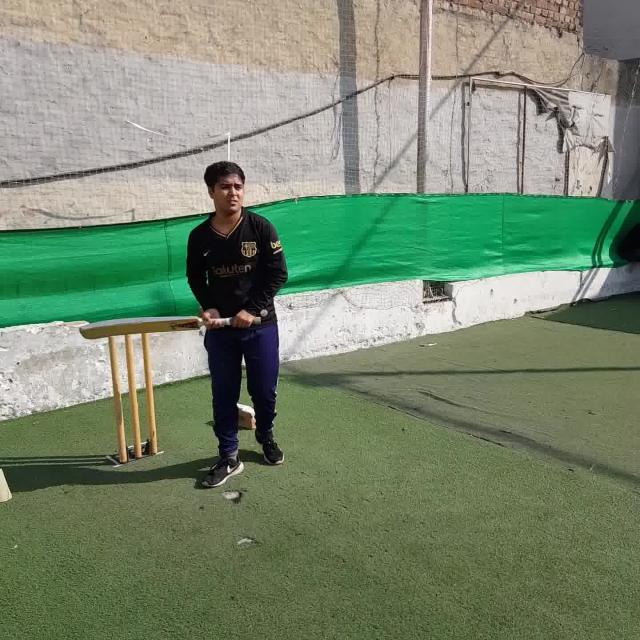bat: (80, 316, 261, 340)
